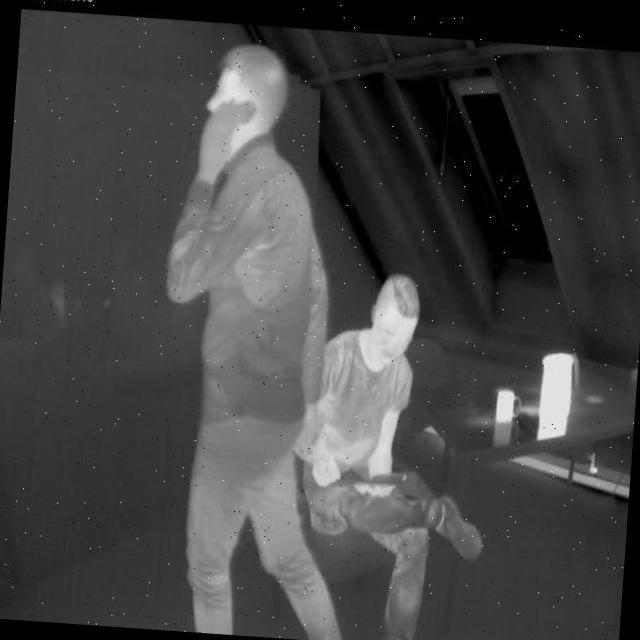person: (135, 32, 358, 640), (273, 252, 504, 640)
